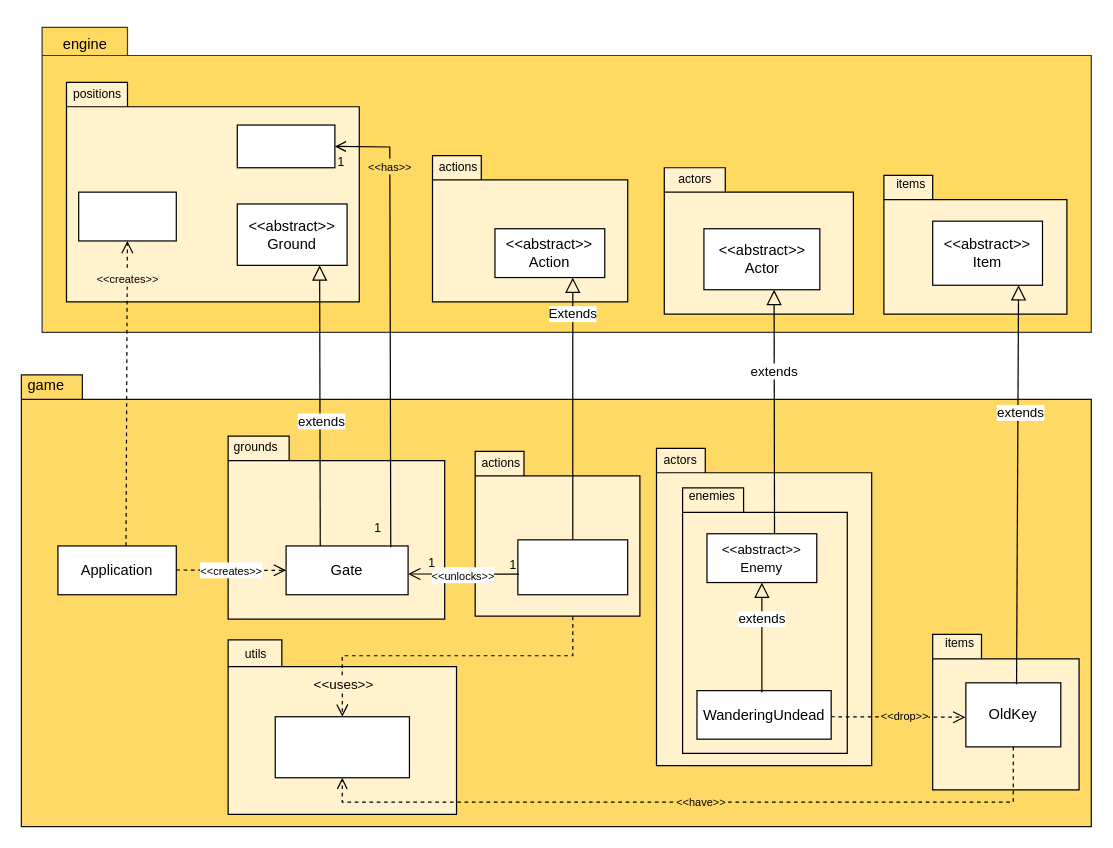
This 1113x848 diagram has some shape labels left out. Here are the shapes that lost their labels. From the top down, the box of each, then its label:
(236, 124, 335, 168): Location
(77, 191, 176, 241): GameMap
(517, 539, 628, 595): UnlockGate Action
(274, 716, 409, 778): <<enumeration>> Ability
